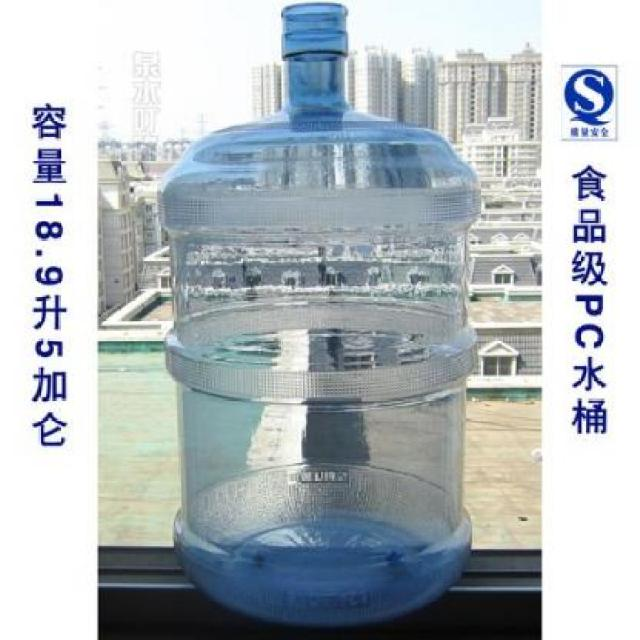coolerbottle: (153, 0, 484, 634)
